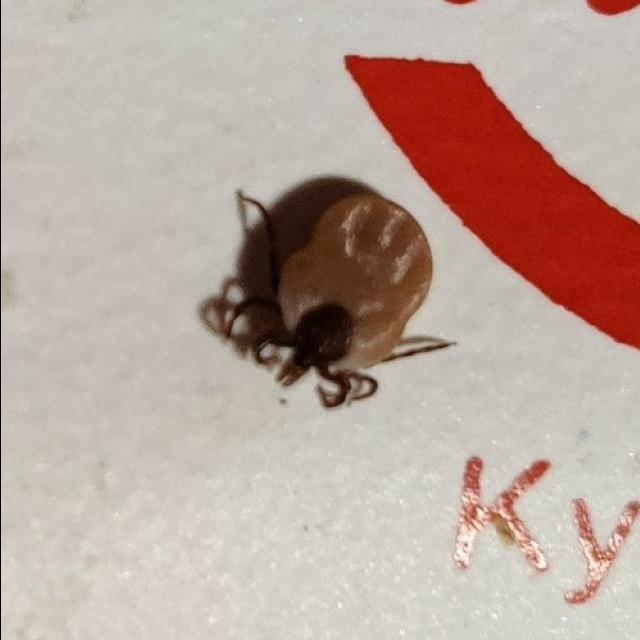Ixodes Ricinus-F-Fed: (199, 186, 450, 410)
